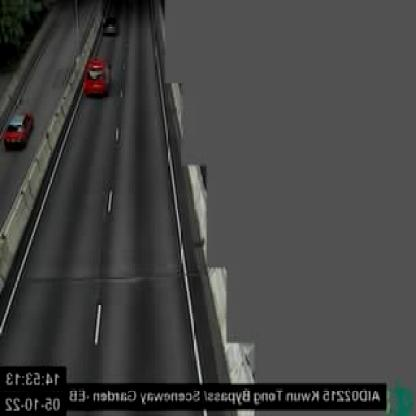Car: (6, 109, 36, 149), (83, 56, 112, 96), (103, 14, 121, 35)
